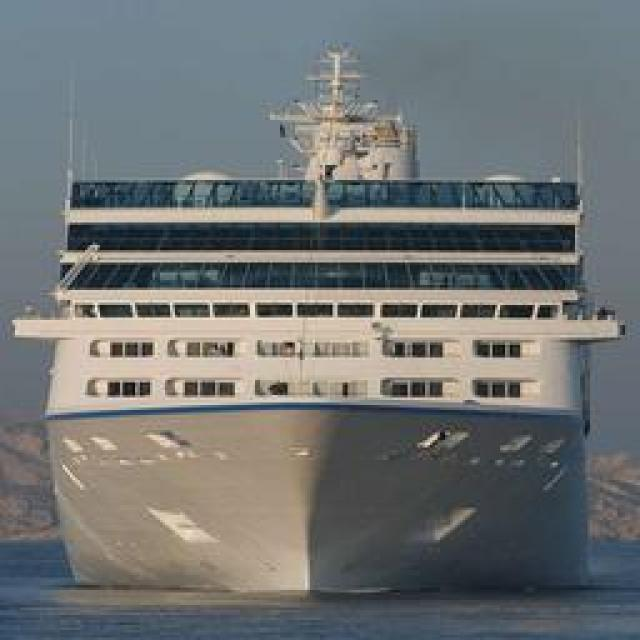ship2: (9, 45, 626, 599)
